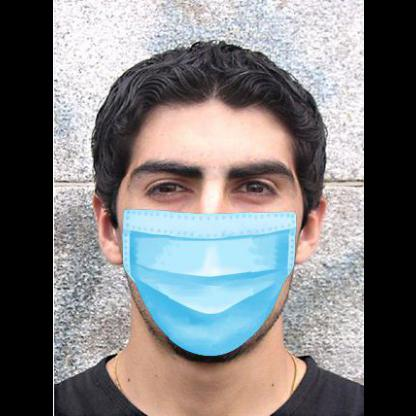Surgical Mask: (117, 124, 295, 352)
